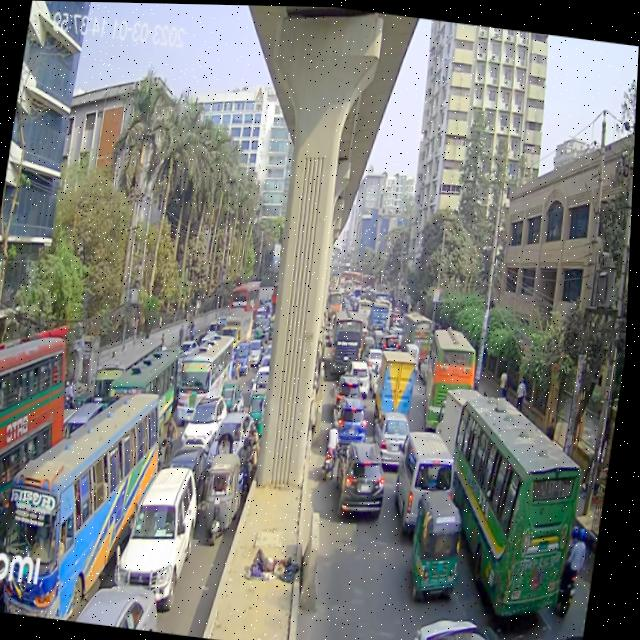cng: (411, 481, 472, 607), (198, 433, 253, 551), (247, 386, 274, 440), (222, 373, 244, 419)
